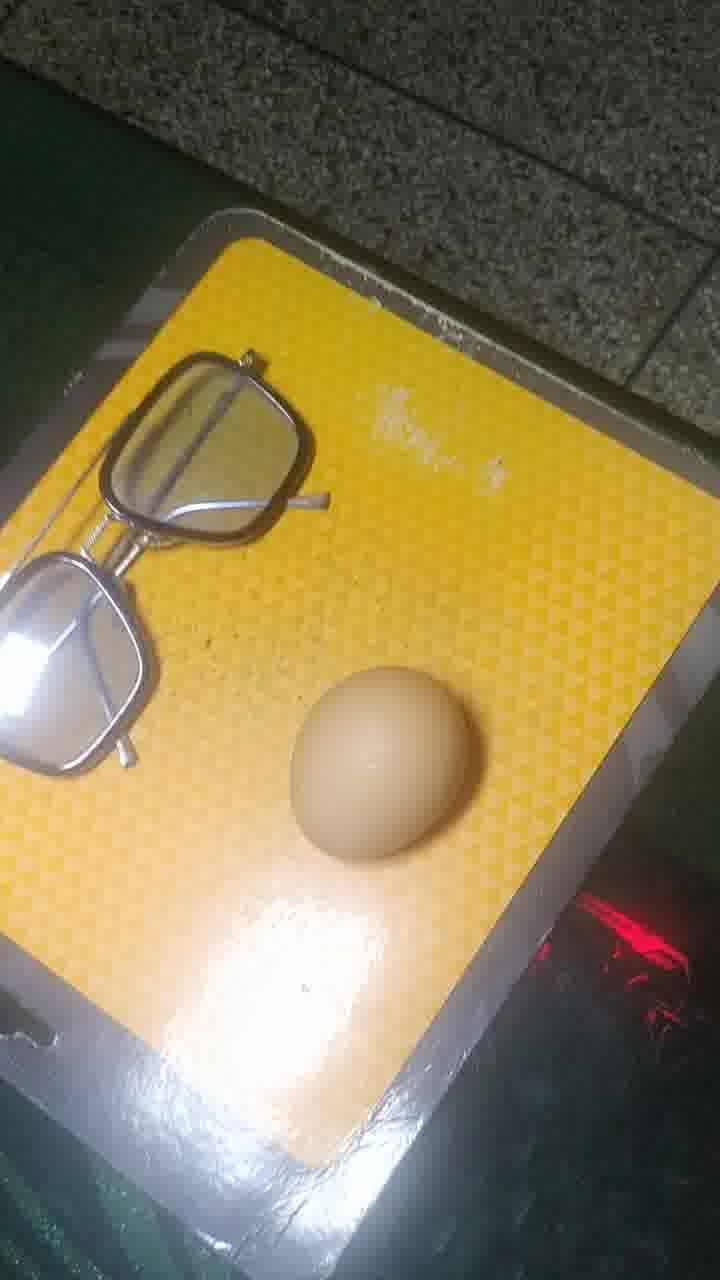egg: (288, 667, 494, 867)
sunglass: (6, 333, 317, 776)
